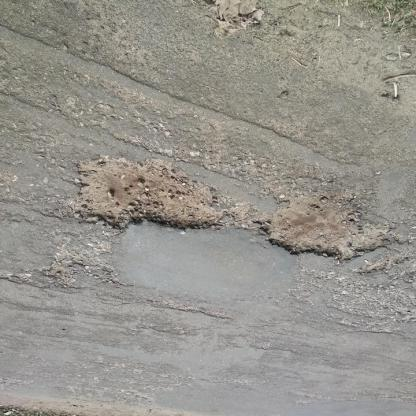pothole: (71, 156, 238, 235), (255, 195, 396, 266)
